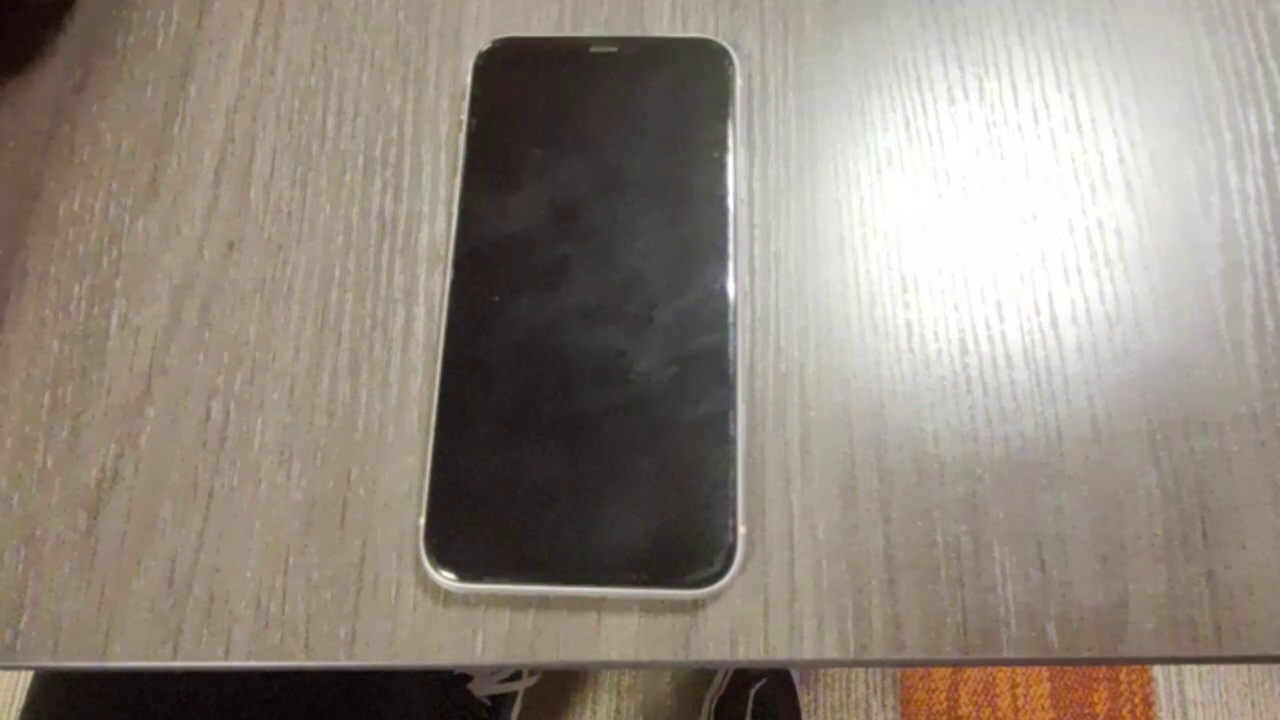celular: (418, 35, 745, 600)
